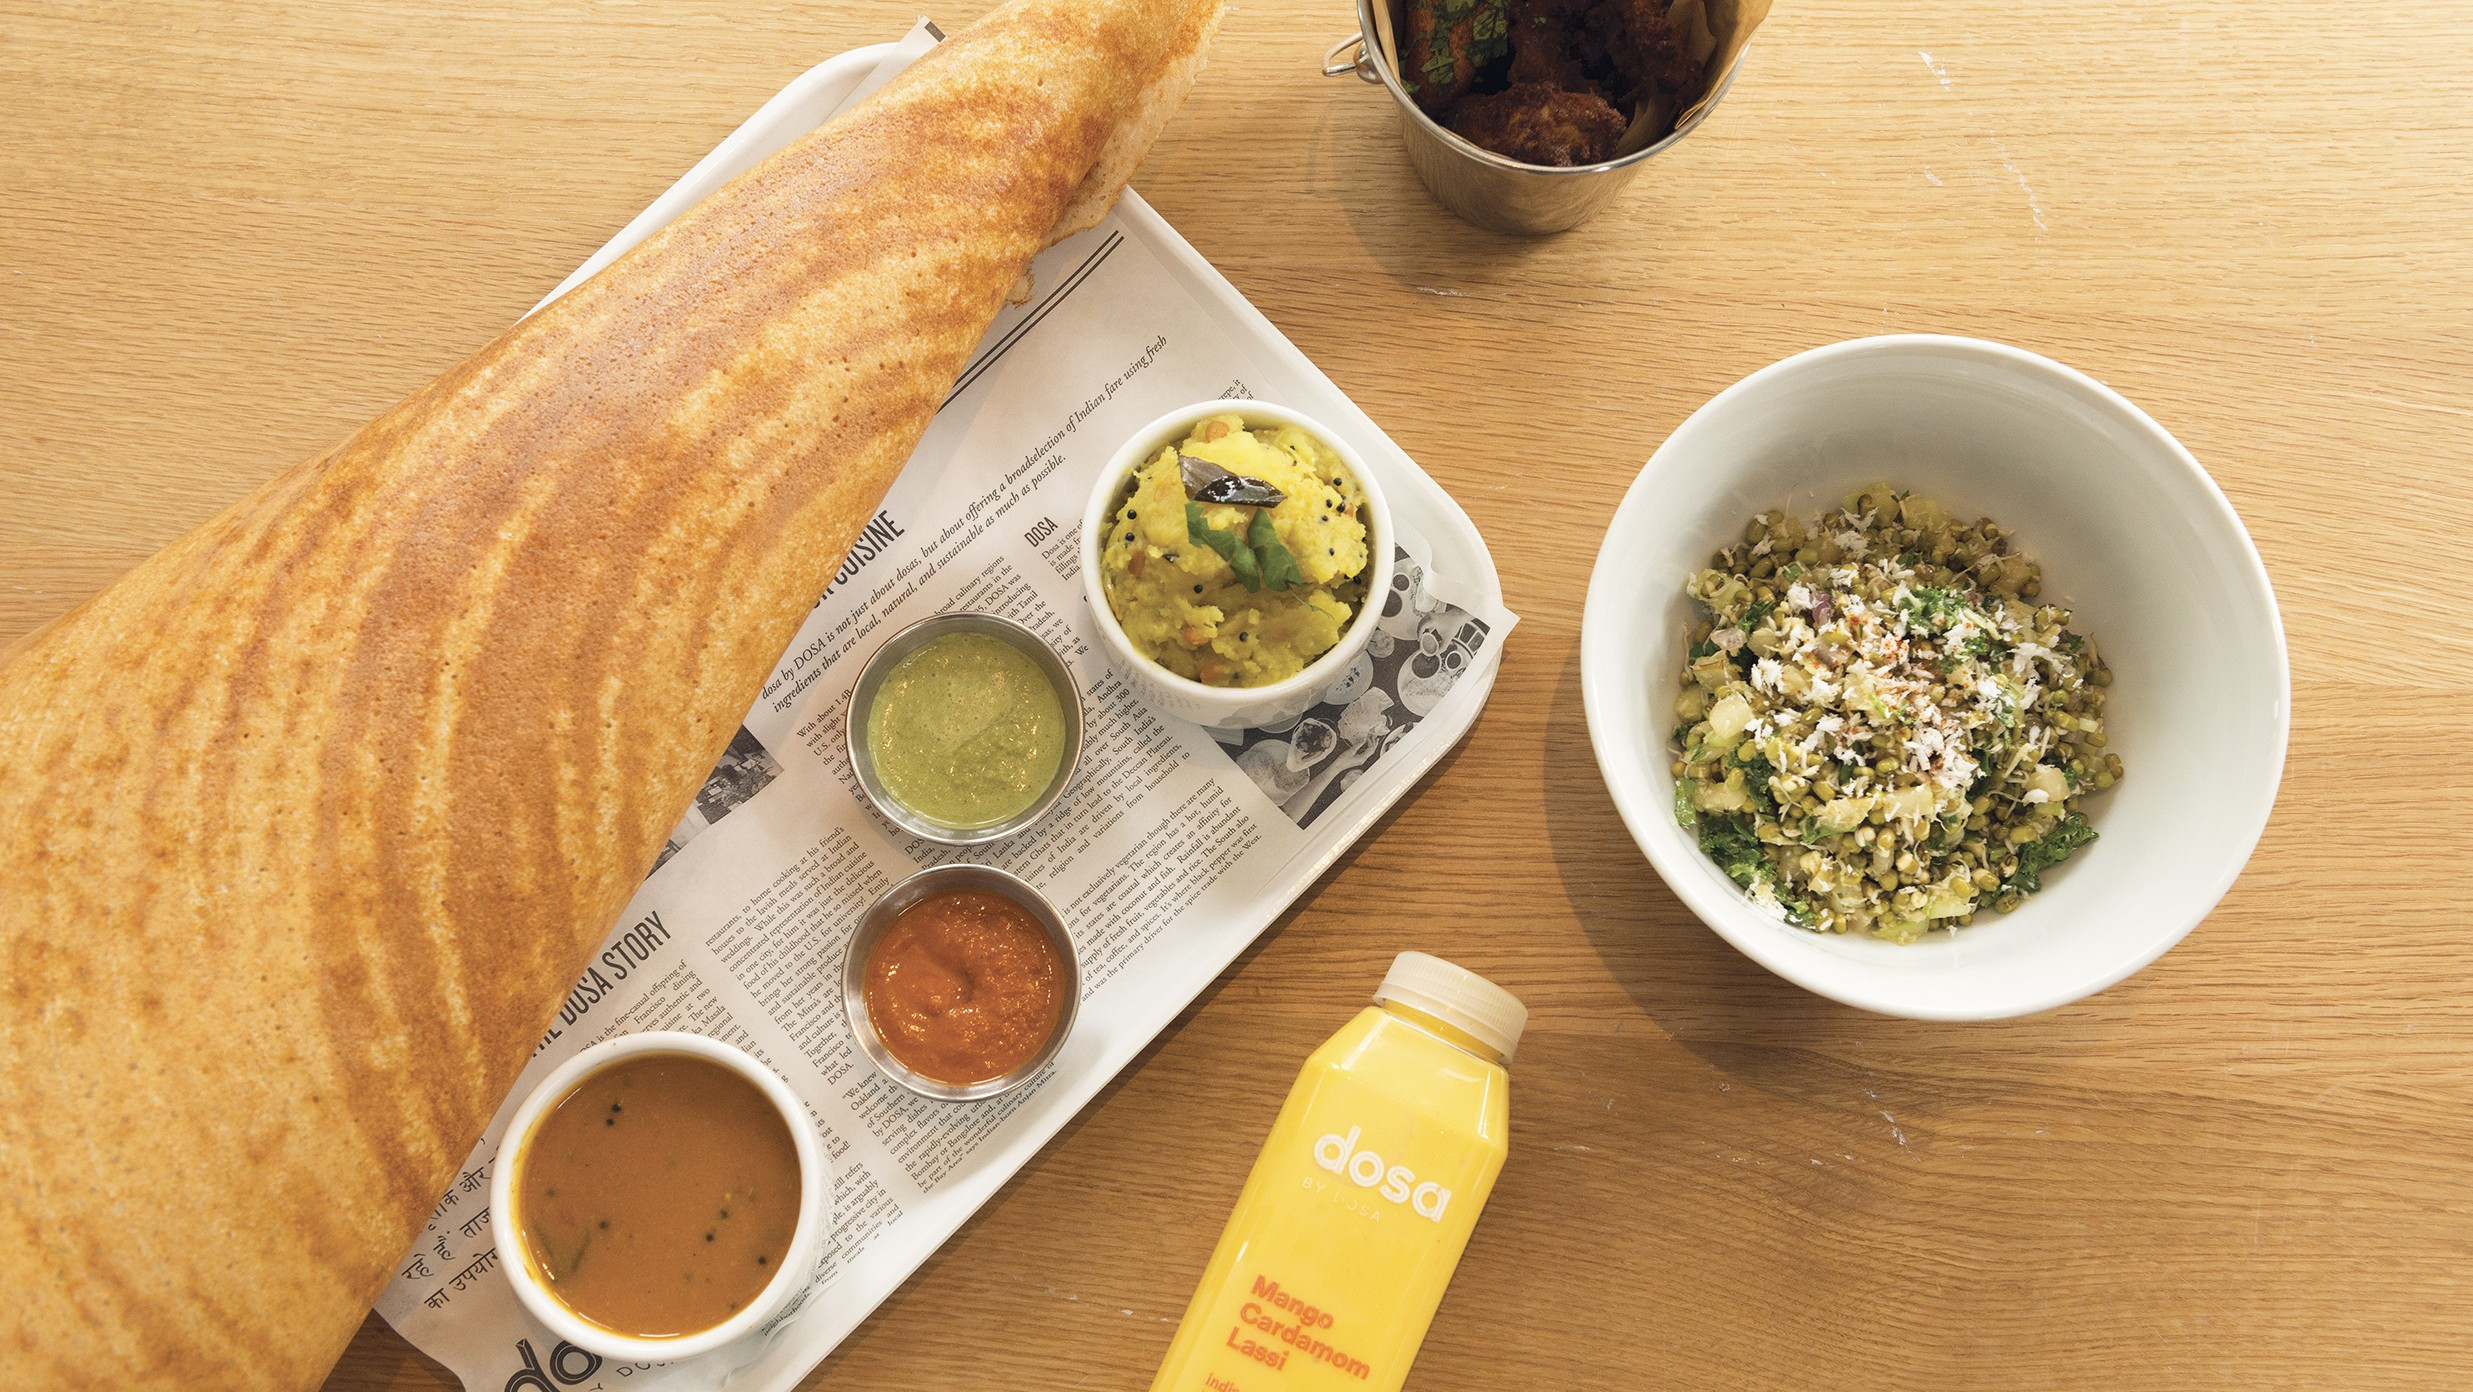dosa: (5, 7, 1230, 1392)
